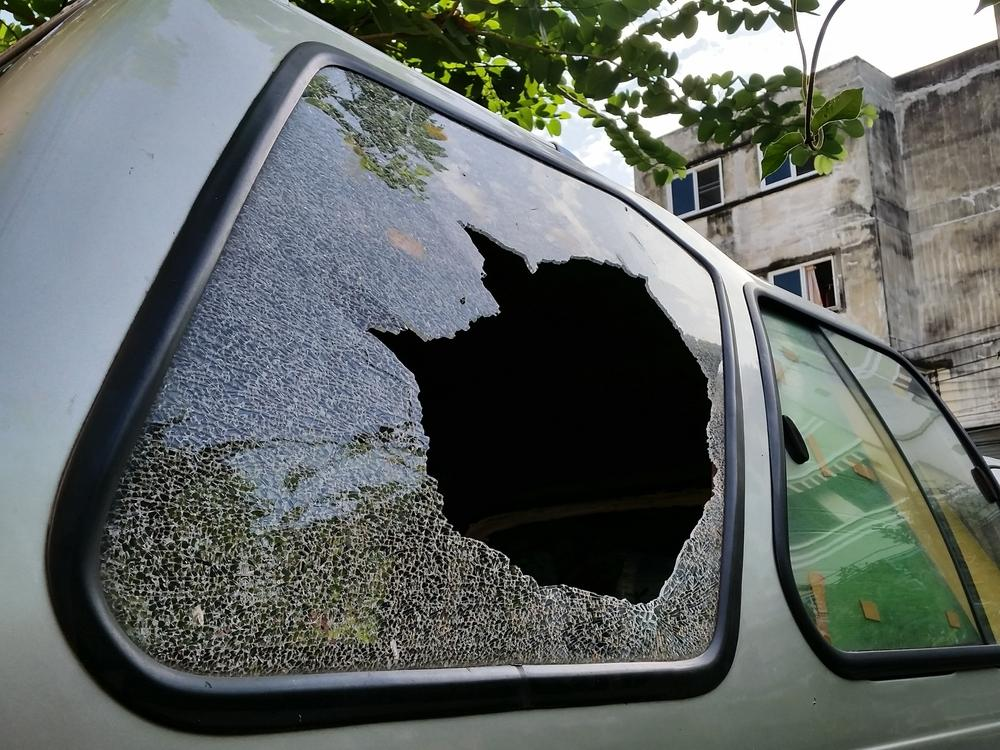glass shatter: (101, 67, 725, 676)
